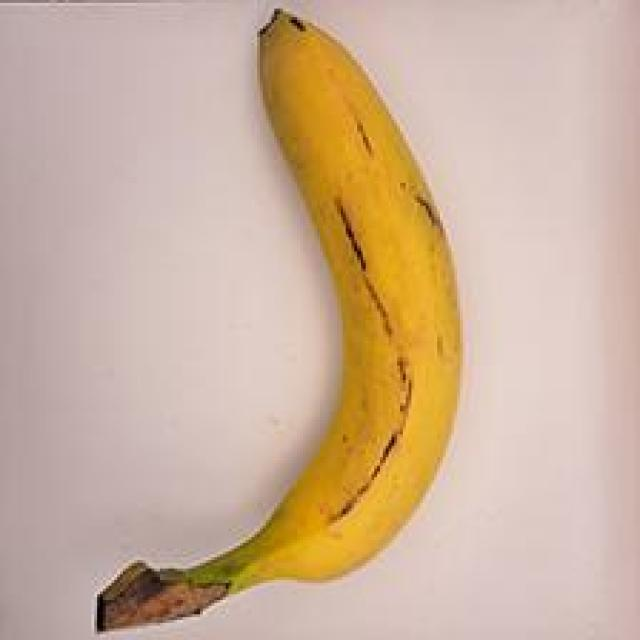ripe: (83, 13, 481, 640)
